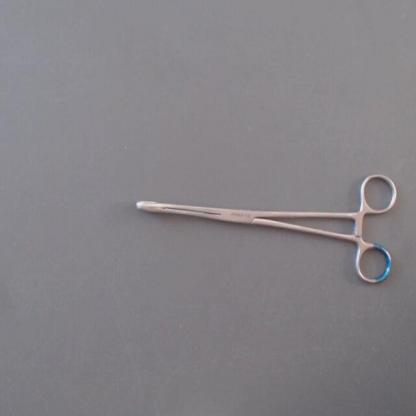Sponge Forceps: (128, 166, 404, 296)
